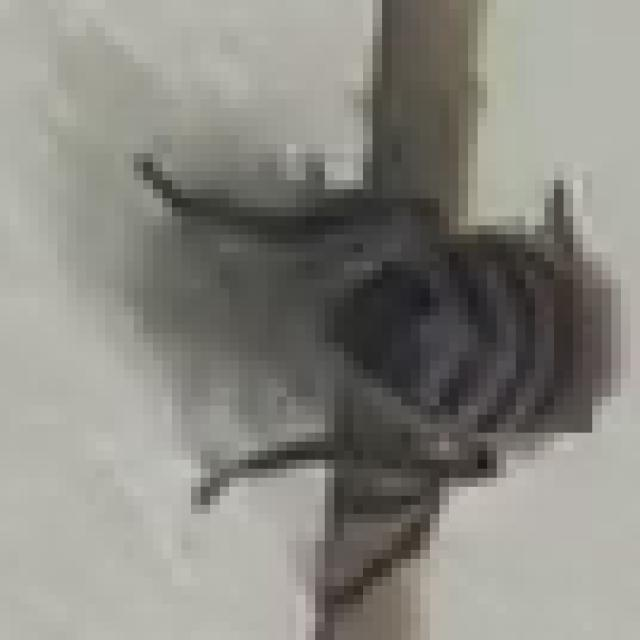honeybee: (94, 132, 593, 564)
